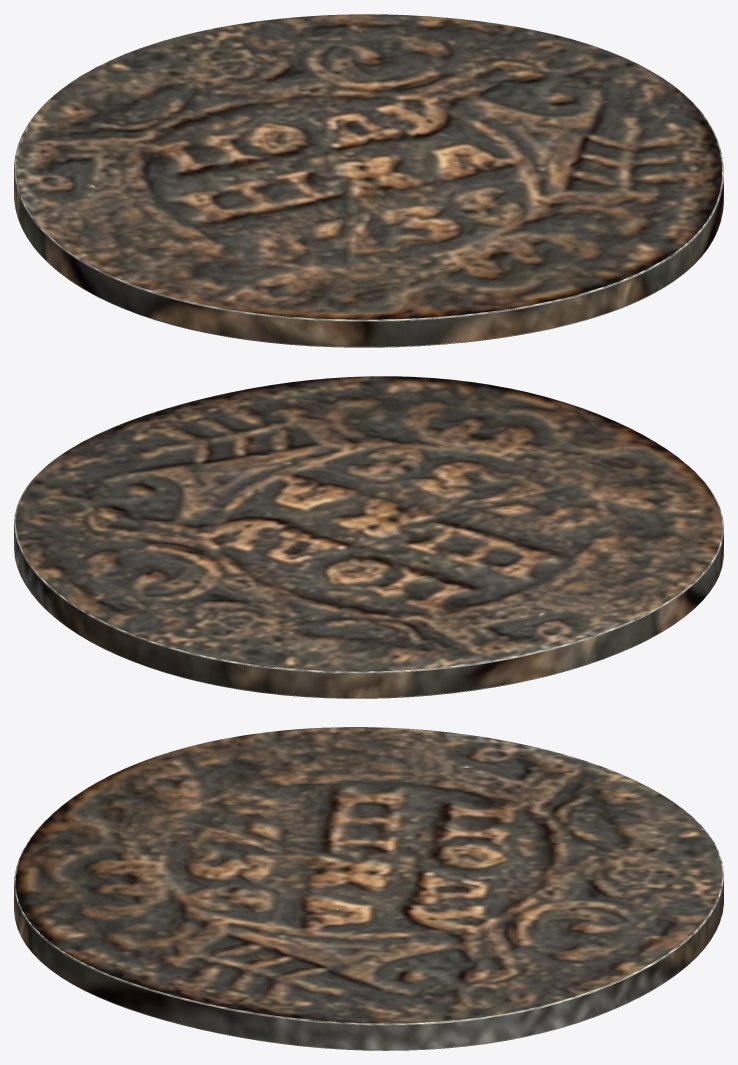
3 views of the same model, one above another, from view 1: azimuth 30°, elevation 25°; view 2: azimuth 150°, elevation 25°; view 3: azimuth 270°, elevation 25° (orthographic). The views are drawn at different scales.
Parts seen in each view (by area): view 1: Cylinder.002; view 2: Cylinder.002; view 3: Cylinder.002.
Part boxes in pixels (x1,y1,x2,y2): Cylinder.002: (14,14,723,347); Cylinder.002: (14,376,723,698); Cylinder.002: (14,727,723,1050).
Size of the model in its own units: 0.9726 by 0.0436 by 0.9802.
2 materials, 2 textured.
